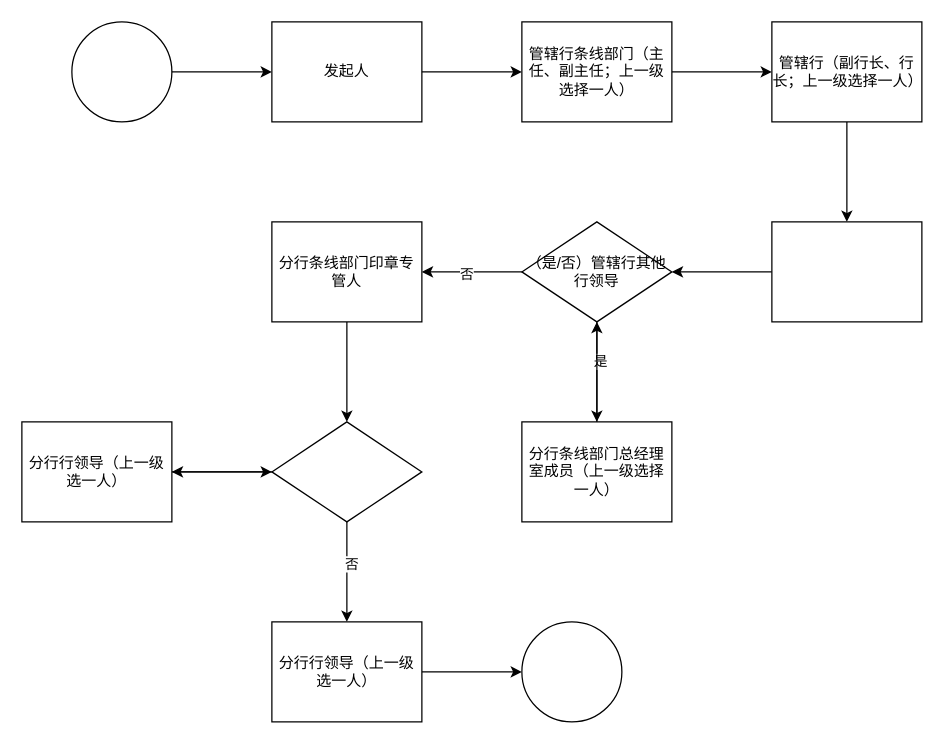
The diagram is 944 pixels wide and 744 high, and some of its shapes have lost their labels. Each missing label, with the box of its shape:
j结束: (521, 621, 622, 722)
开始: (71, 21, 172, 122)
管辖行印章专管人: (771, 221, 922, 322)
（是 /否） 分行条线部门总经理室其他成员: (271, 421, 422, 522)
